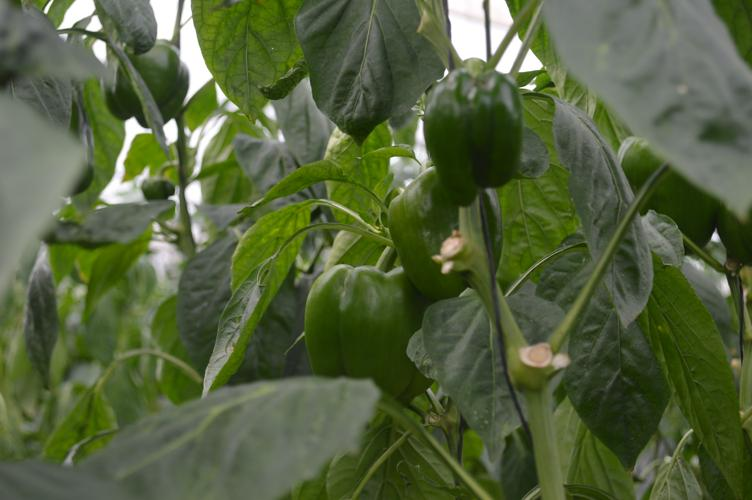BellPepper: (305, 265, 445, 404), (388, 164, 501, 298), (423, 69, 519, 201), (613, 139, 719, 247), (100, 41, 194, 131)
